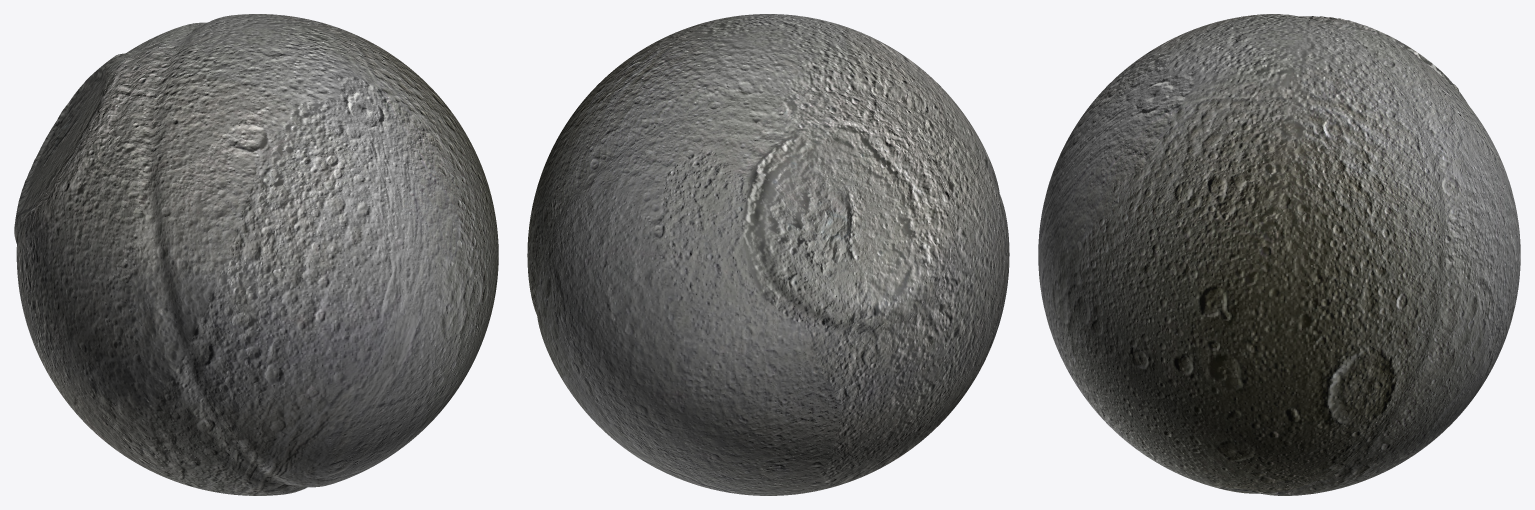
File: tethys.glb
3 views of the same model, side by side, from view 1: azimuth 30°, elevation 25°; view 2: azimuth 150°, elevation 25°; view 3: azimuth 270°, elevation 25° (orthographic).
Parts seen in each view (by area): view 1: tethys_globe; view 2: tethys_globe; view 3: tethys_globe.
Part boxes in pixels (left/top/right/bottom): tethys_globe: left=14, top=14, right=498, bottom=495; tethys_globe: left=527, top=14, right=1009, bottom=495; tethys_globe: left=1038, top=14, right=1520, bottom=495.
Size of the model in its own units: 2 by 2 by 2.
Materials: 1 (1 with a texture image).
